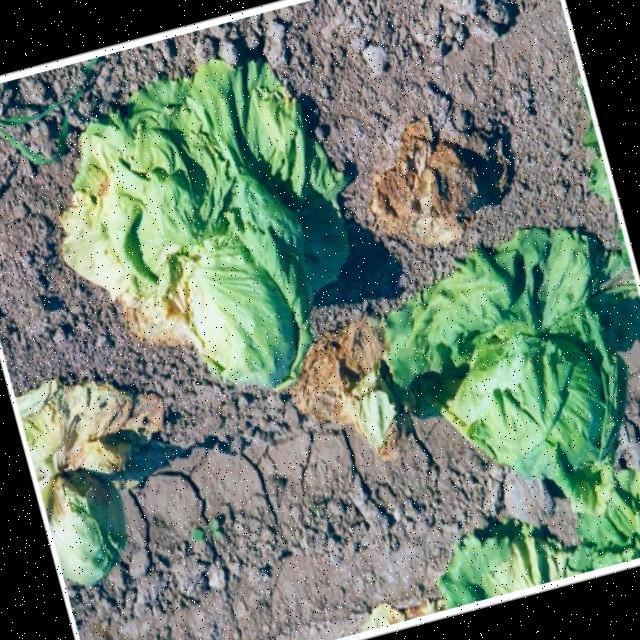Wilt_and_leaf_blight_on_lettuce: (54, 81, 323, 422), (13, 371, 156, 595)
